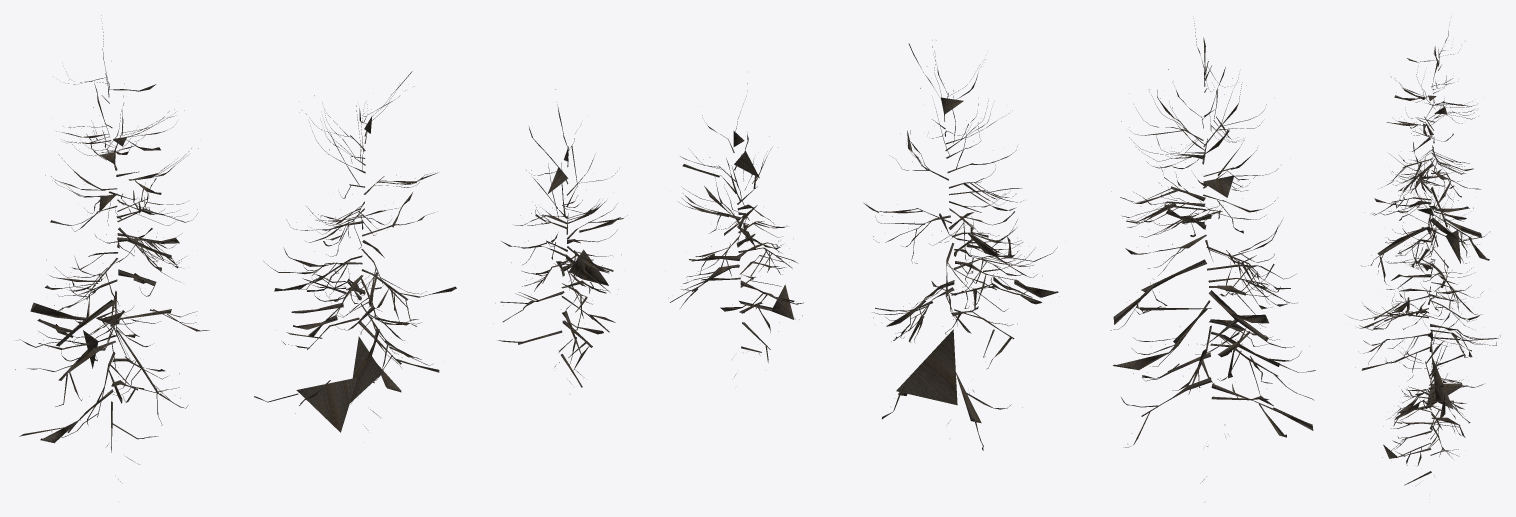
File: pine_sapling_medium.glb
The picture shows the model from 3 angles, left to right: view 1: azimuth 30°, elevation 25°; view 2: azimuth 150°, elevation 25°; view 3: azimuth 270°, elevation 25°; orthographic projection. The views are drawn at different scales.
Parts seen in each view (by area): view 1: pine_sapling_medium_a_LOD0, pine_sapling_medium_b_LOD0, pine_sapling_medium_c_LOD0; view 2: pine_sapling_medium_a_LOD0, pine_sapling_medium_b_LOD0, pine_sapling_medium_c_LOD0; view 3: pine_sapling_medium_a_LOD0, pine_sapling_medium_b_LOD0, pine_sapling_medium_c_LOD0.
Boxes of the visible parts, bbox=[...] form: pine_sapling_medium_a_LOD0: bbox=[15, 15, 209, 483]; pine_sapling_medium_b_LOD0: bbox=[254, 71, 456, 432]; pine_sapling_medium_c_LOD0: bbox=[493, 89, 627, 394]; pine_sapling_medium_a_LOD0: bbox=[1110, 18, 1315, 502]; pine_sapling_medium_b_LOD0: bbox=[863, 40, 1059, 450]; pine_sapling_medium_c_LOD0: bbox=[668, 83, 803, 376]; pine_sapling_medium_a_LOD0: bbox=[1361, 25, 1490, 315]; pine_sapling_medium_b_LOD0: bbox=[1348, 181, 1500, 423]; pine_sapling_medium_c_LOD0: bbox=[1382, 310, 1468, 485].
Size of the model in its own units: 14.79 by 11.21 by 4.78.
3 materials, 3 textured.
